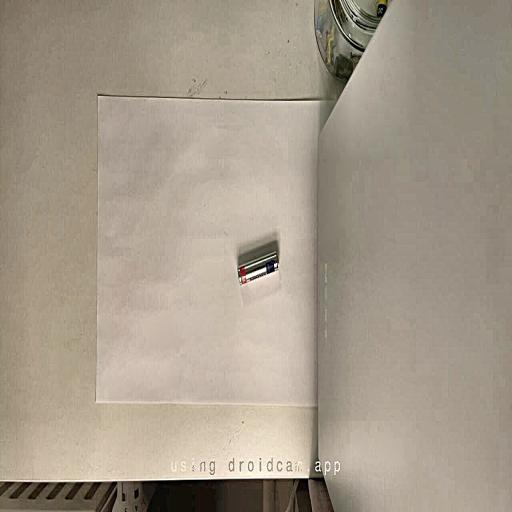RainbowAA: (238, 252, 278, 285)
